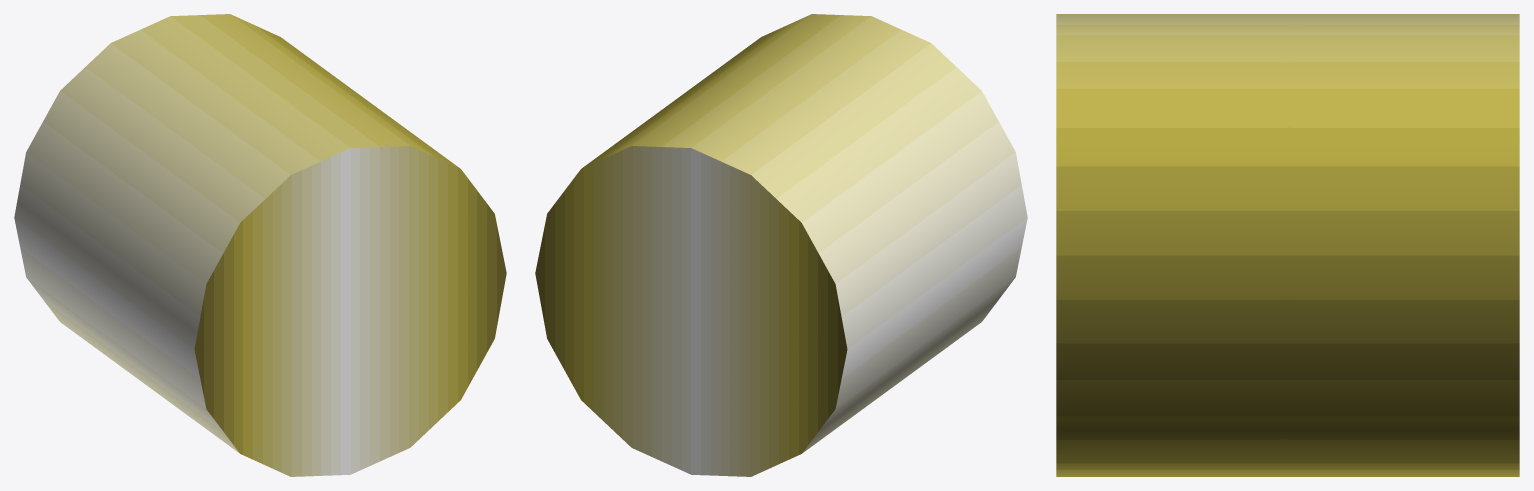
Rendered from pipeYellow.dae.
The picture shows the model from 3 angles, left to right: view 1: azimuth 30°, elevation 25°; view 2: azimuth 150°, elevation 25°; view 3: azimuth 270°, elevation 25°; orthographic projection. The views are drawn at different scales.
Parts seen in each view (by area): view 1: skp4329; view 2: skp4329; view 3: skp4329.
Part boxes in pixels (x1,y1,x2,y2): skp4329: [14, 14, 506, 476]; skp4329: [535, 14, 1027, 476]; skp4329: [1056, 14, 1519, 476].
Bounding box in the file's own units: 39.37 × 39.37 × 39.37.
1 material, 1 textured.
